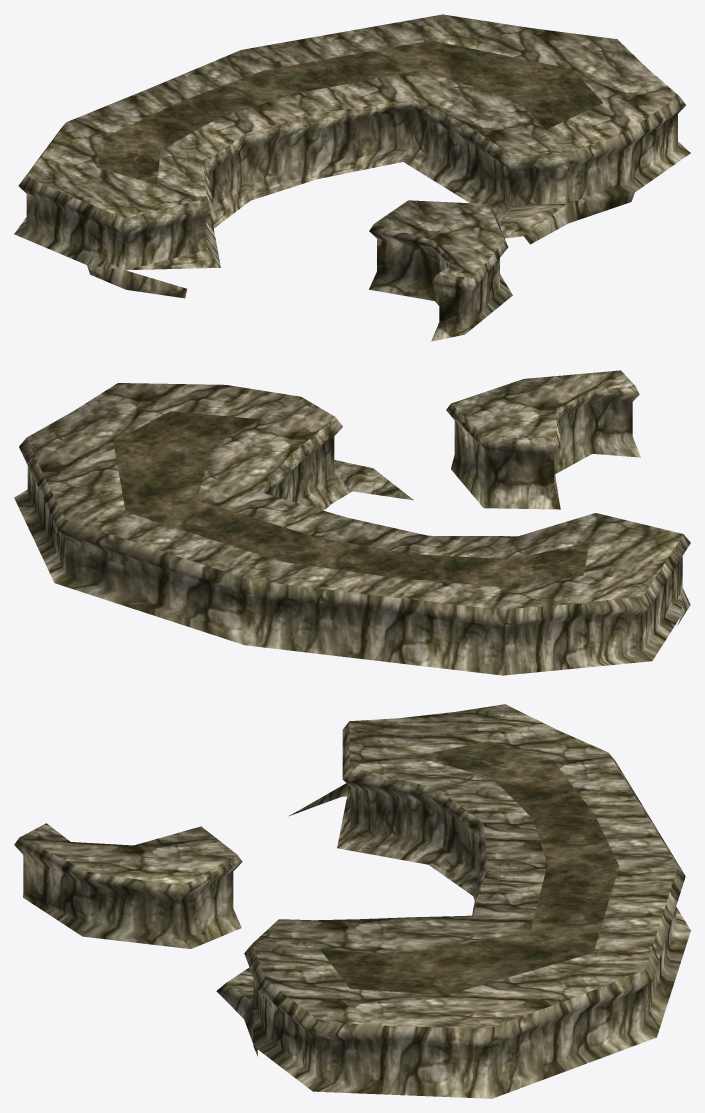
Rendered from CB_NEWPLAYSURFACE_CB_PLAYSURFACE131.fbx.
The picture shows the model from 3 angles, top to bottom: view 1: azimuth 30°, elevation 25°; view 2: azimuth 150°, elevation 25°; view 3: azimuth 270°, elevation 25°; orthographic projection. The views are drawn at different scales.
Visible parts, largest first — view 1: CB_NEWPLAYSURFACE_CB_PLAYSURFACE131; view 2: CB_NEWPLAYSURFACE_CB_PLAYSURFACE131; view 3: CB_NEWPLAYSURFACE_CB_PLAYSURFACE131.
Boxes of the visible parts, left/top/right/bottom form: CB_NEWPLAYSURFACE_CB_PLAYSURFACE131: left=14, top=14, right=690, bottom=341; CB_NEWPLAYSURFACE_CB_PLAYSURFACE131: left=14, top=370, right=690, bottom=675; CB_NEWPLAYSURFACE_CB_PLAYSURFACE131: left=14, top=704, right=690, bottom=1098.
Size of the model in its own units: 323119 by 35025 by 275806.
3 materials, 3 textured.
